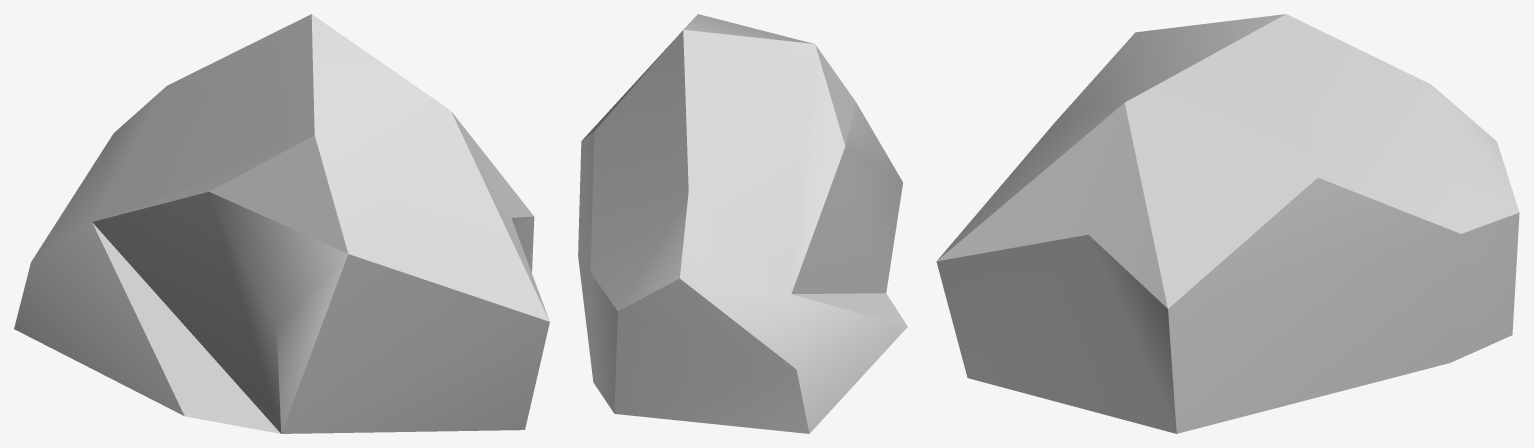
Rendered from RockPiece_2.fbx.
3 views of the same model, side by side, from view 1: azimuth 30°, elevation 25°; view 2: azimuth 150°, elevation 25°; view 3: azimuth 270°, elevation 25° (orthographic). The views are drawn at different scales.
Parts seen in each view (by area): view 1: RockPiece_2; view 2: RockPiece_2; view 3: RockPiece_2.
Part boxes in pixels (bbox=[...]): RockPiece_2: bbox=[14, 14, 549, 433]; RockPiece_2: bbox=[578, 14, 907, 433]; RockPiece_2: bbox=[936, 14, 1519, 433].
Bounding box in the file's own units: 0.0234 × 0.0191 × 0.0296.
